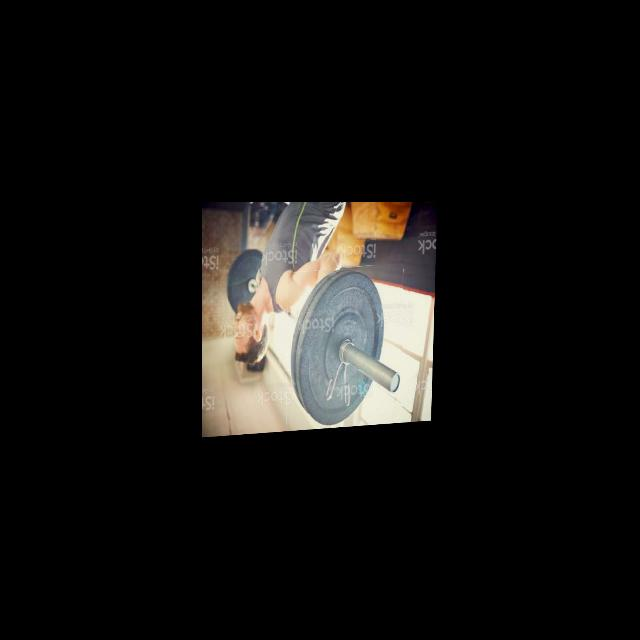barbell: (286, 266, 405, 433)
